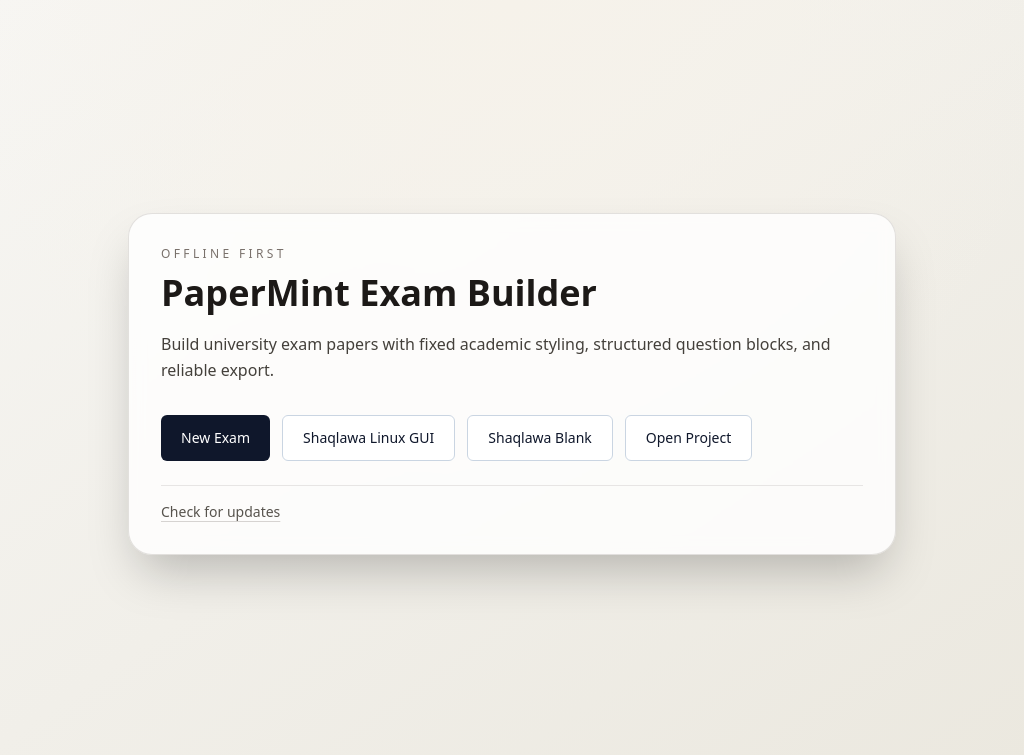
Test case: App Linux GUI template flow › opens editor workspace when Linux GUI Template is selected
Click the button "Shaqlawa Linux GUI".
click(369, 438)  # box [282,415,455,461]
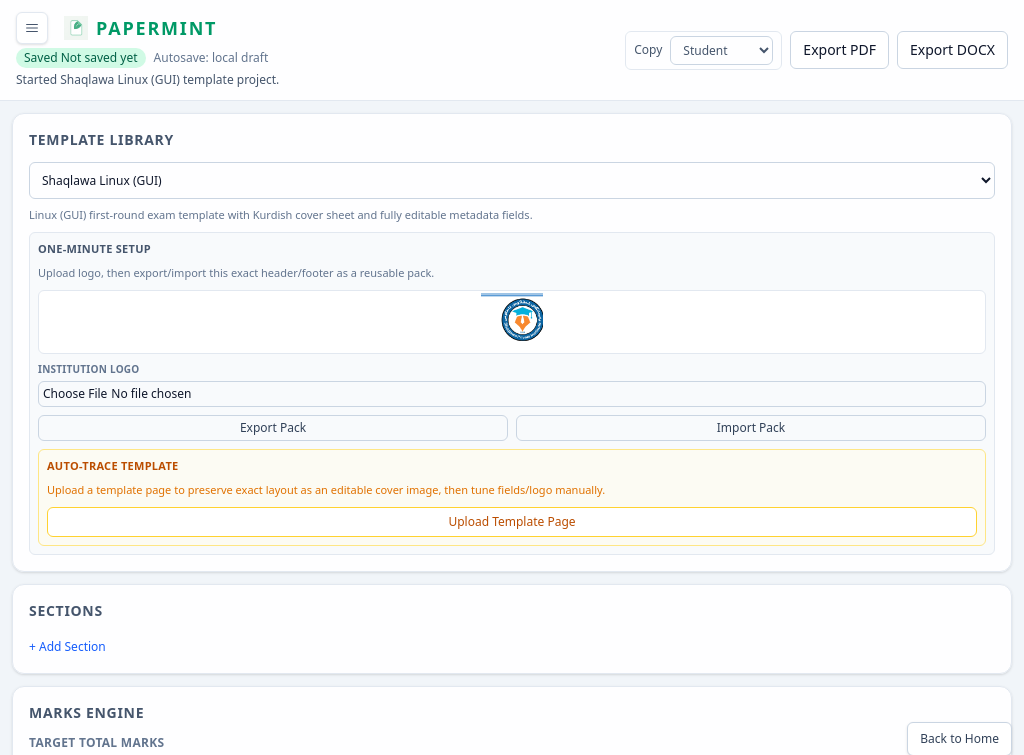
Result: the heading "Template Library" is shown at [29,130,174,149]
Result: the heading "Sections" is shown at [29,600,103,620]
